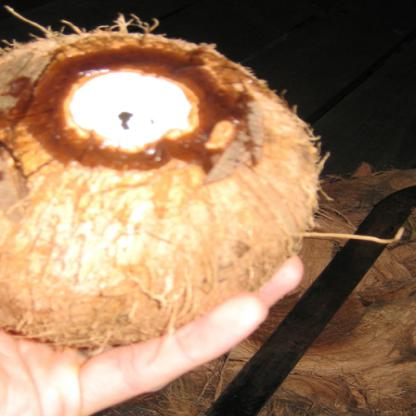knife: (100, 181, 415, 415)
